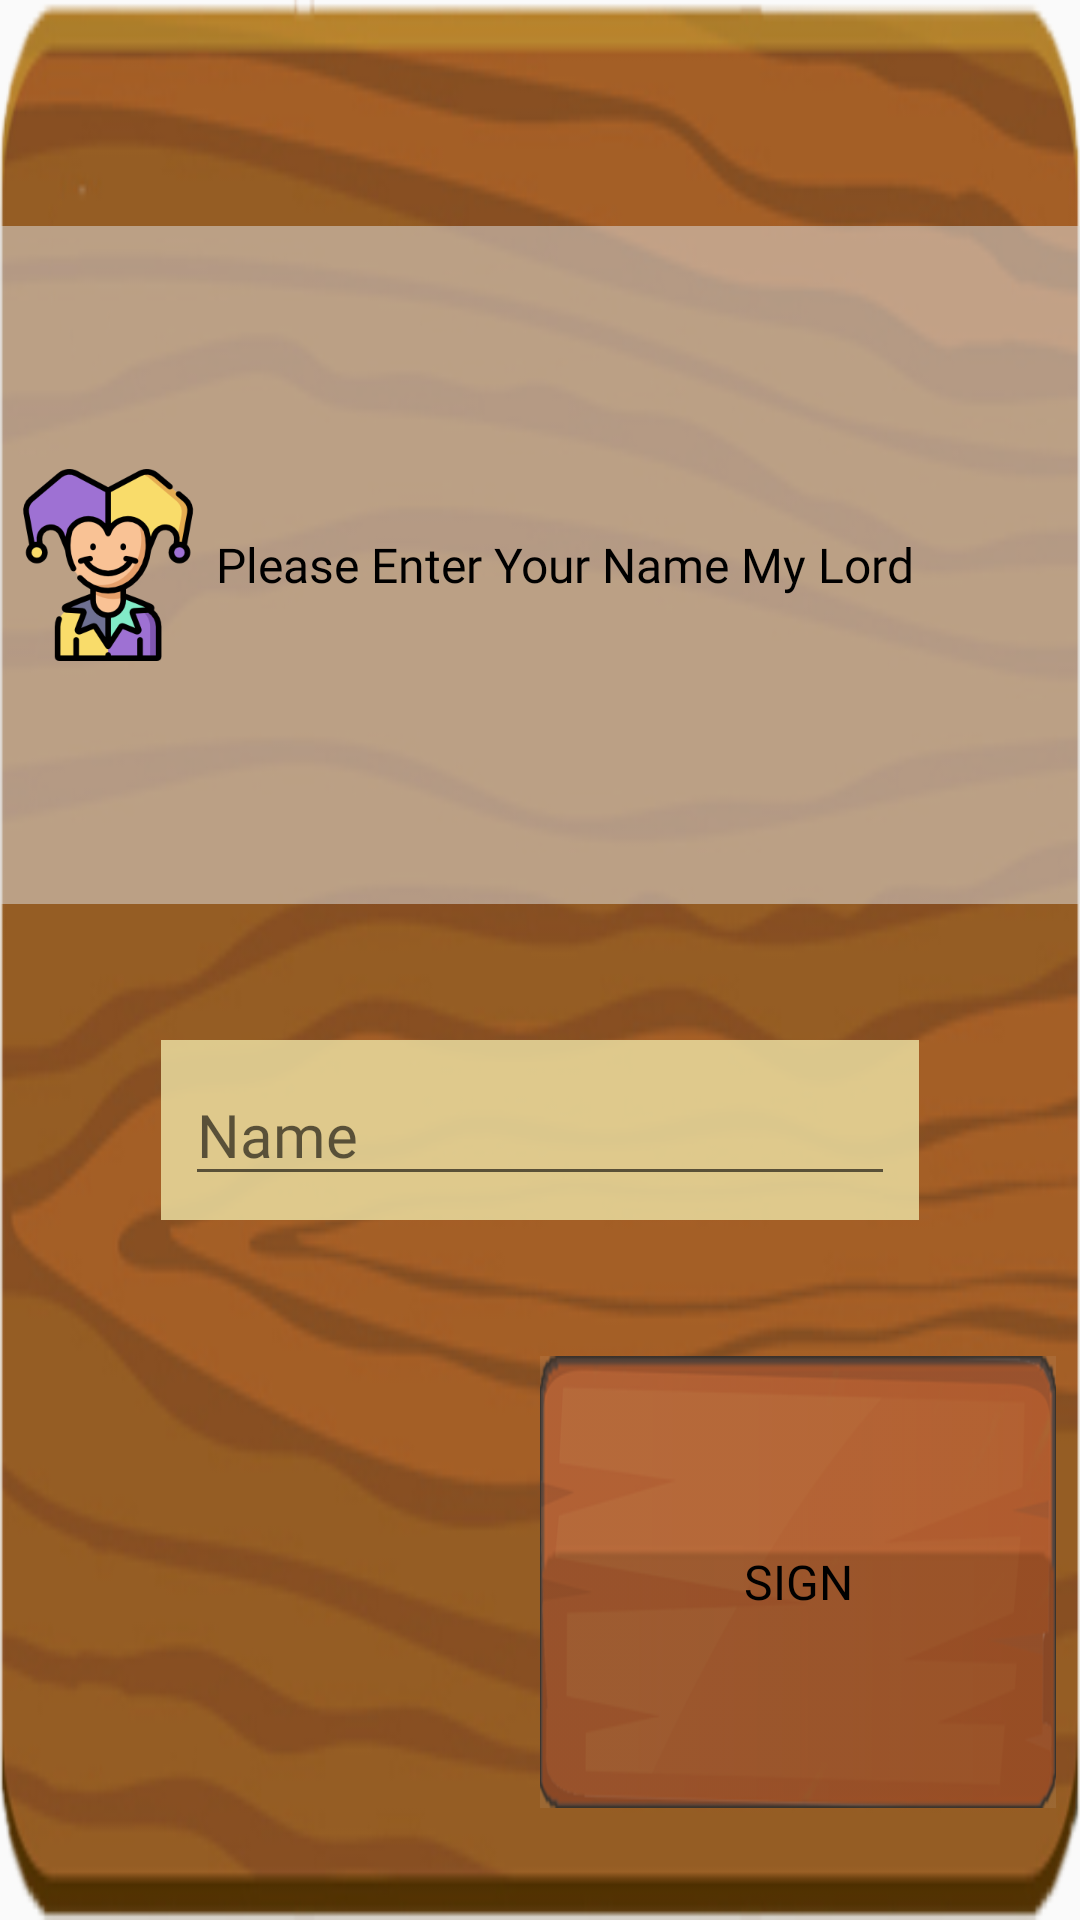

Icons on this 1080 x 1920 Android screen, each with its box as {"left": x1, "top": y1, "right": x2, "bottom": y2}:
joker: {"left": 23, "top": 469, "right": 193, "bottom": 661}
